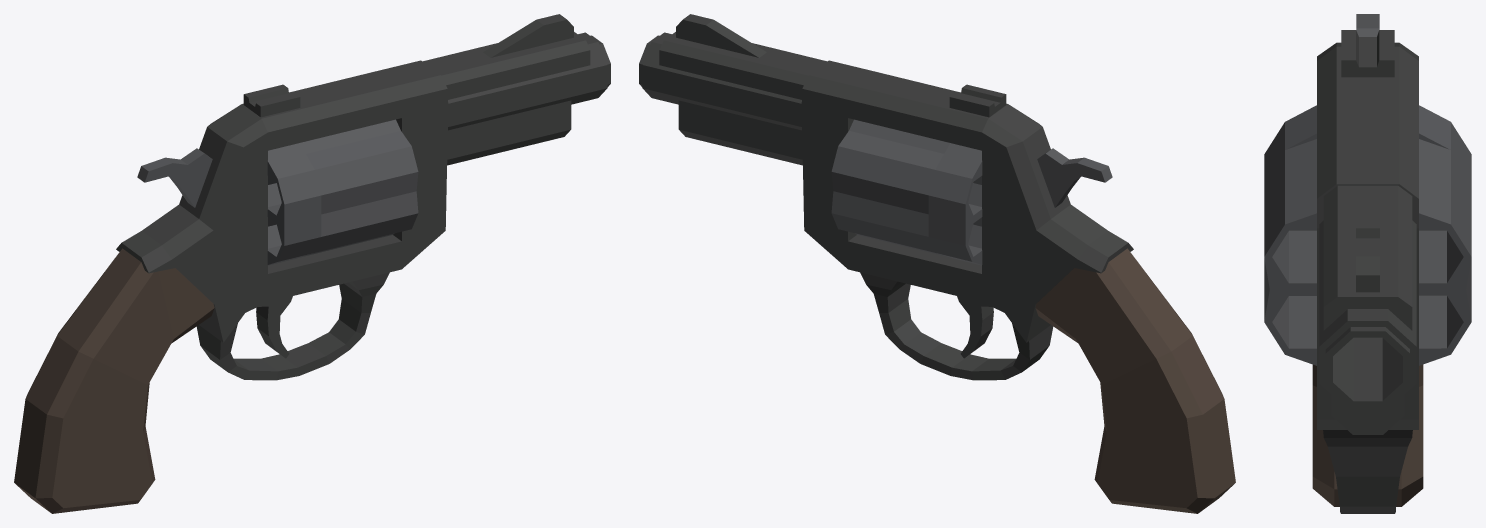
Rendered from quaternius-survival-revolver-2.glb.
3 views of the same model, side by side, from view 1: azimuth 30°, elevation 25°; view 2: azimuth 150°, elevation 25°; view 3: azimuth 270°, elevation 25° (orthographic). The views are drawn at different scales.
Visible parts, largest first — view 1: Revolver_4; view 2: Revolver_4; view 3: Revolver_4.
Boxes of the visible parts, x1,y1,x2,y2 form: Revolver_4: (14,14,610,513); Revolver_4: (639,14,1235,513); Revolver_4: (1264,14,1471,513).
Bounding box in the file's own units: 1.47 × 0.9151 × 0.2943.
